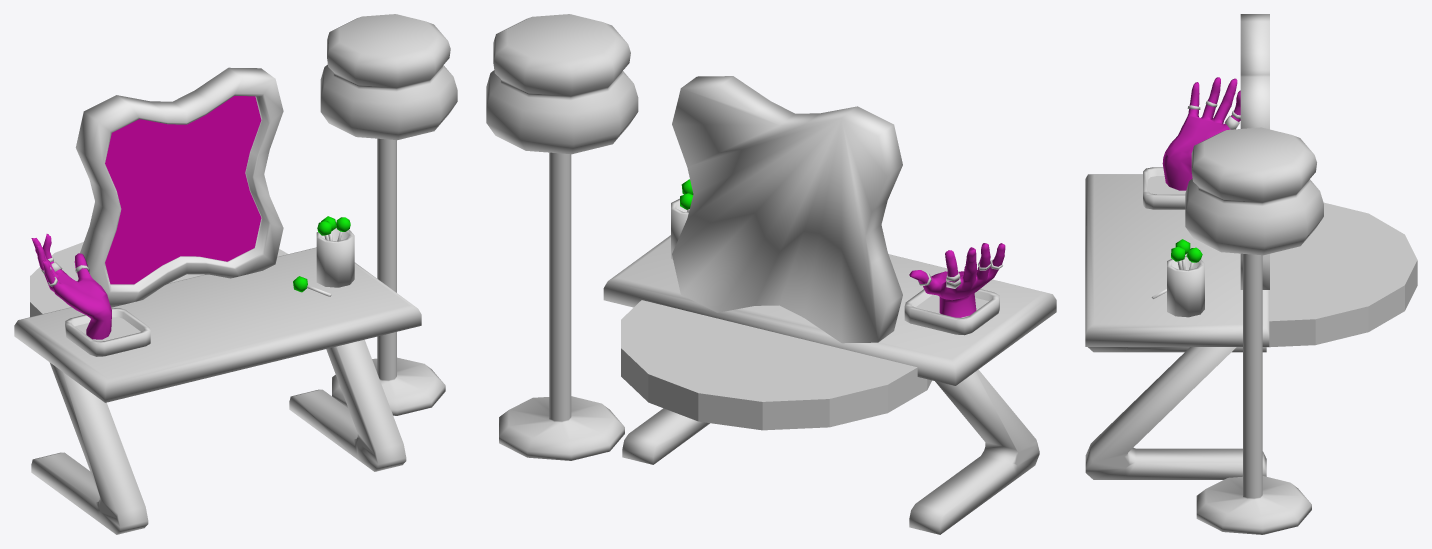
The model's file is SM_VanityV2.fbx.
3 renders of one model, left to right at view 1: azimuth 30°, elevation 25°; view 2: azimuth 150°, elevation 25°; view 3: azimuth 270°, elevation 25°, orthographic. The views are drawn at different scales.
Parts seen in each view (by area): view 1: Circle, Cube, Circle.003, Cube.001, Plane005, Cube.003, Circle.001, Circle.004; view 2: Circle, Circle.003, Circle.004, Cube, Cube.001, Plane005, Cube.003; view 3: Circle.003, Cube, Circle.004, Cube.001, Circle, Plane005, Circle.001, Cube.003.
Part boxes in pixels (x1,y1,x2,y2): Circle: [75, 67, 283, 307]; Cube: [14, 247, 421, 402]; Circle.003: [320, 14, 457, 415]; Cube.001: [31, 339, 406, 534]; Plane005: [31, 234, 111, 339]; Cube.003: [65, 308, 150, 356]; Circle.001: [316, 228, 354, 287]; Circle.004: [30, 242, 288, 316]; Circle: [672, 76, 902, 343]; Circle.003: [486, 14, 638, 460]; Circle.004: [621, 300, 931, 430]; Cube: [603, 235, 1056, 385]; Cube.001: [622, 369, 1039, 534]; Plane005: [909, 243, 1005, 317]; Cube.003: [904, 289, 999, 335]; Circle.003: [1185, 127, 1323, 534]; Cube: [1085, 174, 1269, 346]; Circle.004: [1262, 202, 1417, 347]; Cube.001: [1085, 347, 1266, 479]; Circle: [1240, 14, 1269, 289]; Plane005: [1162, 77, 1240, 190]; Circle.001: [1167, 256, 1204, 317]; Cube.003: [1143, 167, 1185, 209].
Size of the model in its own units: 342 by 271 by 225.
